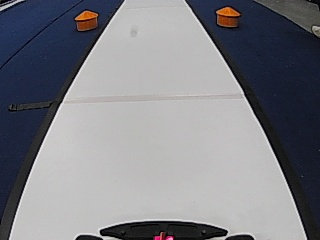granary: (214, 4, 241, 29), (73, 8, 99, 31)
